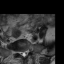CCS_normal: (22, 49, 25, 58)
LFS_normal: (27, 46, 29, 55)
LLS_normal: (25, 47, 27, 57)
RFS_normal: (17, 48, 20, 56)
RLS_normal: (20, 49, 22, 58)
